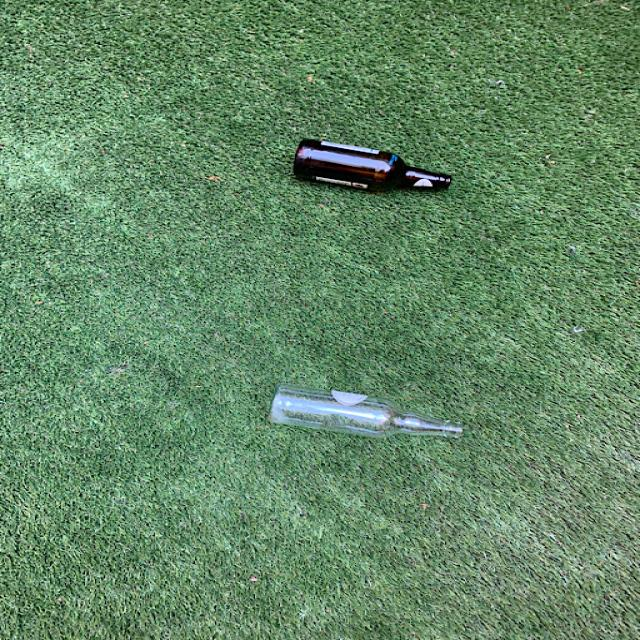PET: (238, 98, 482, 228), (240, 352, 474, 472)
